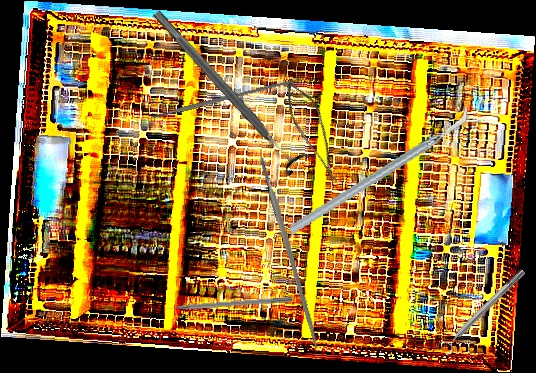Chopper: (274, 102, 484, 238)
Fixation Ring: (144, 1, 312, 178), (435, 264, 531, 358)
Micro Scissor: (267, 76, 362, 187)
Pusher: (154, 295, 293, 312)
Scalpel Handle: (258, 155, 321, 349), (150, 78, 294, 120)
